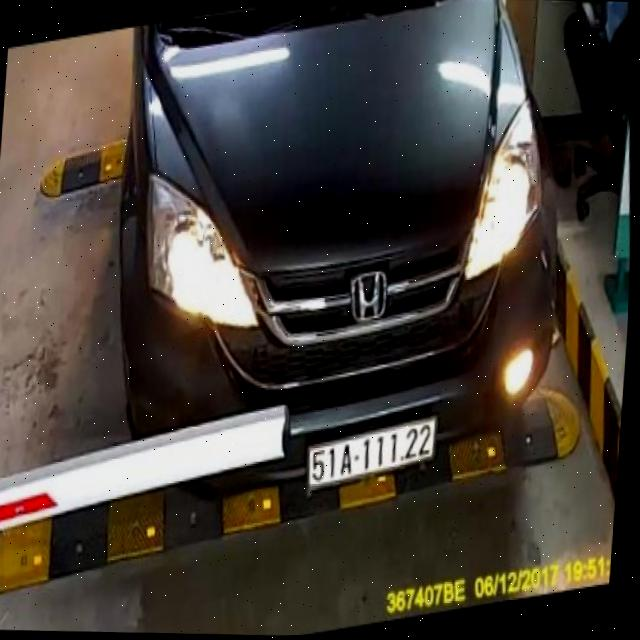car: (93, 0, 586, 519)
plate: (303, 412, 443, 494)
